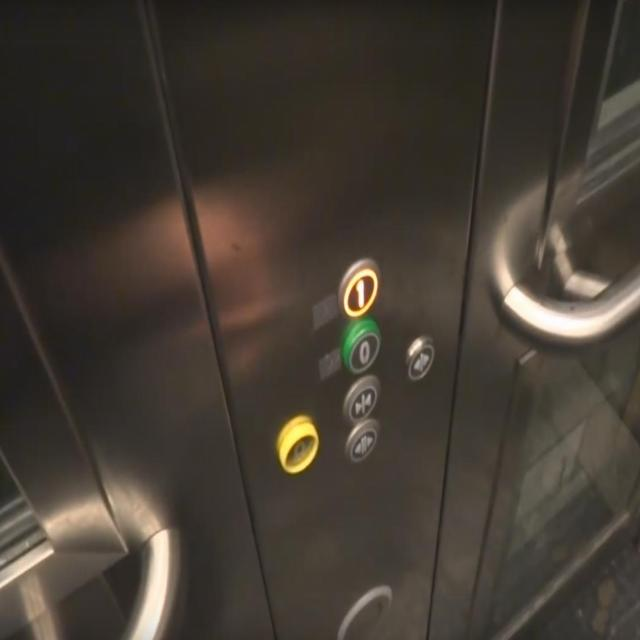0: (342, 319, 380, 375)
1: (336, 256, 380, 320)
alarm: (277, 418, 321, 476)
close: (341, 376, 380, 422)
open: (345, 420, 380, 465), (403, 331, 432, 382)
